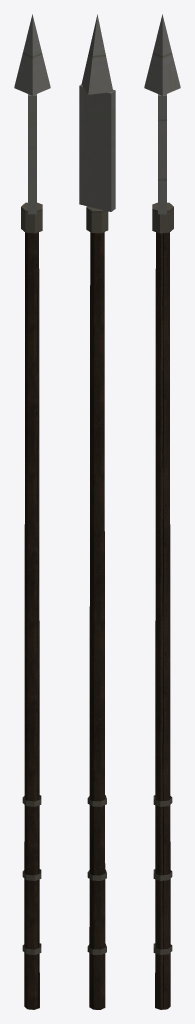
File: wpn_spear_common.glb
The picture shows the model from 3 angles, left to right: view 1: azimuth 90°, elevation 25°; view 2: azimuth 150°, elevation 25°; view 3: azimuth 270°, elevation 25°; orthographic projection.
Visible parts, largest first — view 1: wpn_spear_common; view 2: wpn_spear_common; view 3: wpn_spear_common.
Part boxes in pixels (box(x1,y1,x2,y2)): wpn_spear_common: box(14, 14, 50, 1009); wpn_spear_common: box(79, 14, 115, 1009); wpn_spear_common: box(144, 14, 180, 1009).
Size of the model in its own units: 0.09 by 2.68 by 0.09.
3 materials, 3 textured.
